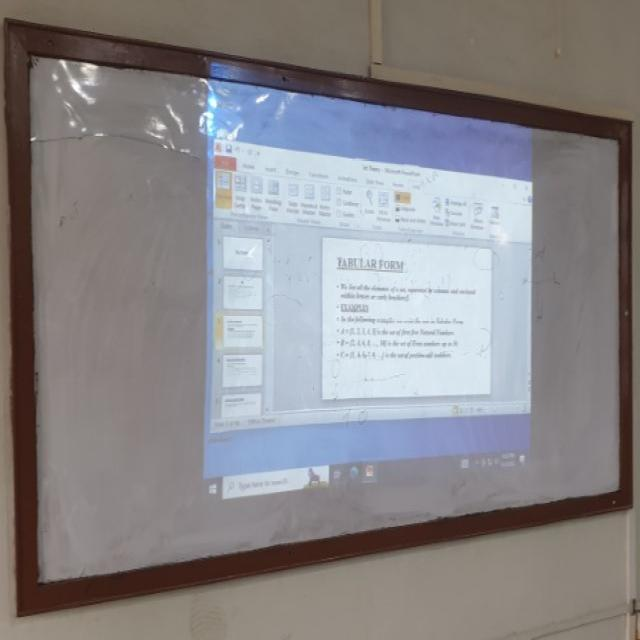Slide: (205, 61, 529, 505)
White-board: (13, 26, 629, 605)
